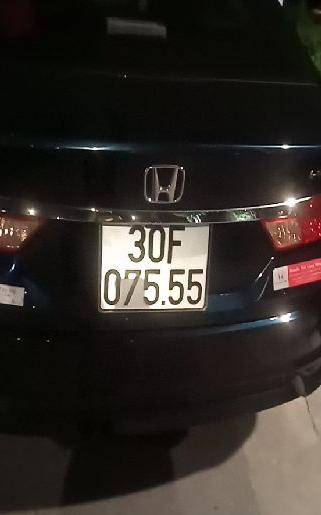Plate-iWeP: (101, 223, 210, 311)
